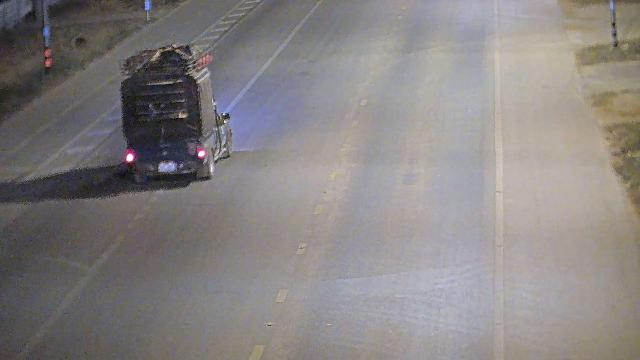pickup-truck: (118, 42, 233, 183)
